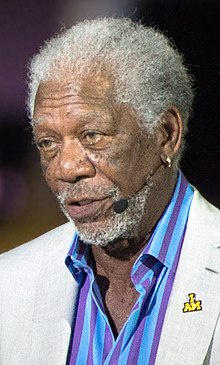bad: (0, 81, 150, 236)
